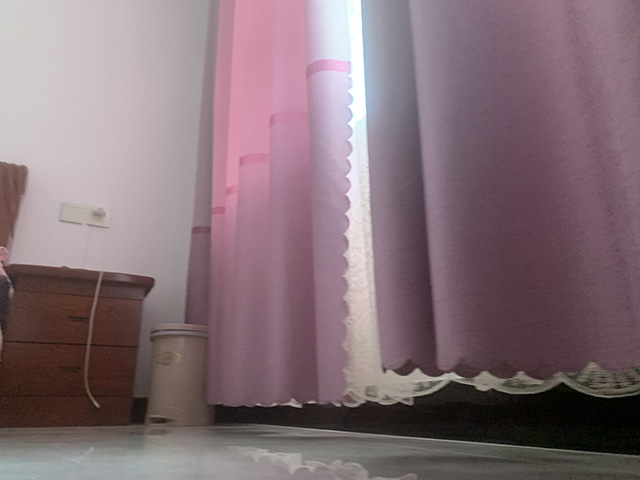cabinet: (1, 261, 156, 428)
curtain: (183, 1, 640, 411)
trashcan: (143, 322, 216, 428)
